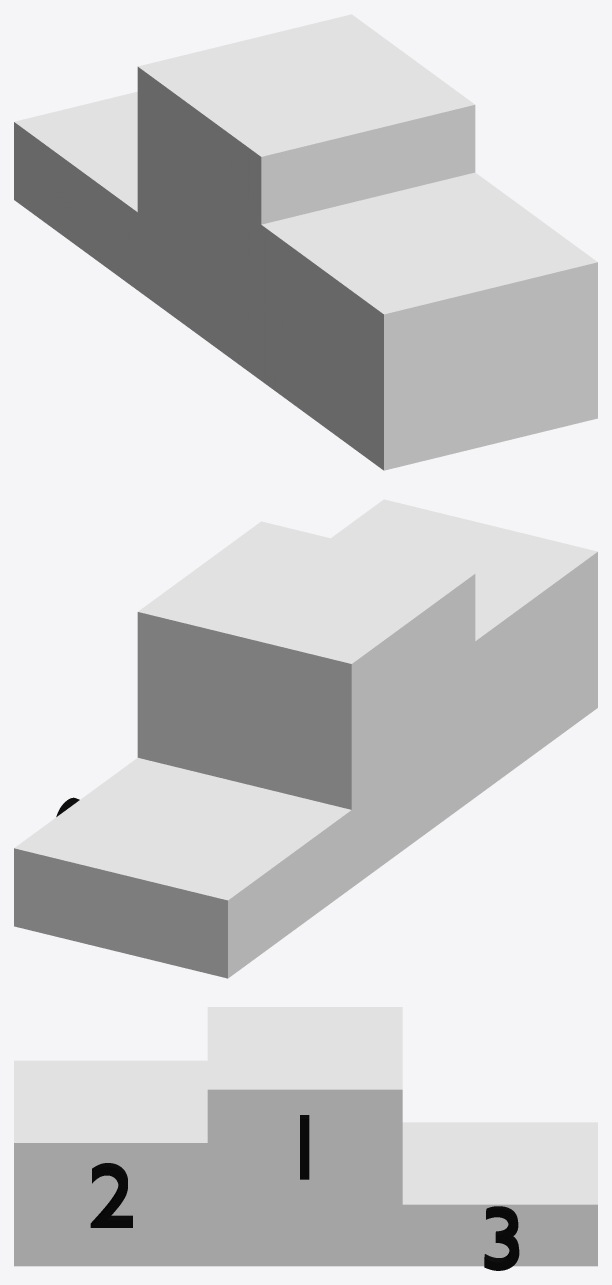
Rendered from Podest.fbx.
3 views of the same model, one above another, from view 1: azimuth 30°, elevation 25°; view 2: azimuth 150°, elevation 25°; view 3: azimuth 270°, elevation 25° (orthographic). The views are drawn at different scales.
Parts seen in each view (by area): view 1: Podest; view 2: Podest; view 3: Podest.
Boxes of the visible parts, x1=… form: Podest: x1=14, y1=14, x2=597, y2=470; Podest: x1=14, y1=499, x2=597, y2=978; Podest: x1=14, y1=1007, x2=597, y2=1270.
Size of the model in its own units: 210 by 201 by 599.
